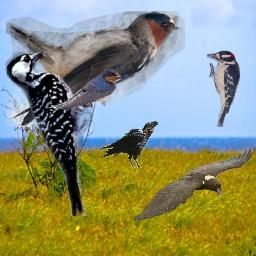Crow: (133, 147, 253, 222), (98, 121, 159, 168)
Swallow: (6, 11, 185, 127), (47, 68, 122, 111)
Woodpecker: (5, 47, 93, 216), (207, 49, 241, 127)
